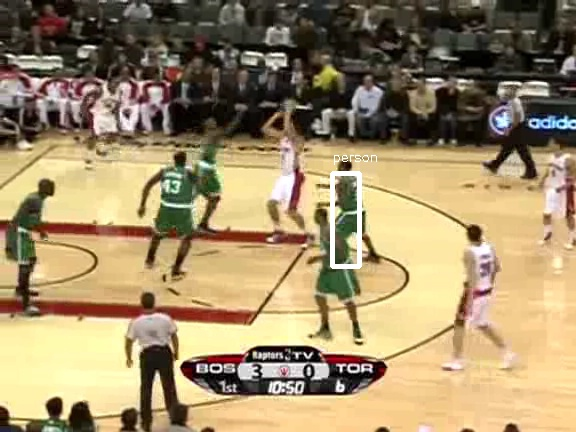person: (333, 167, 367, 248), (332, 167, 366, 248), (334, 167, 368, 248), (333, 166, 367, 247), (333, 168, 367, 249)
target_negative: (236, 33, 302, 332), (121, 272, 428, 311), (263, 384, 370, 421), (85, 140, 117, 176), (187, 429, 228, 431)
